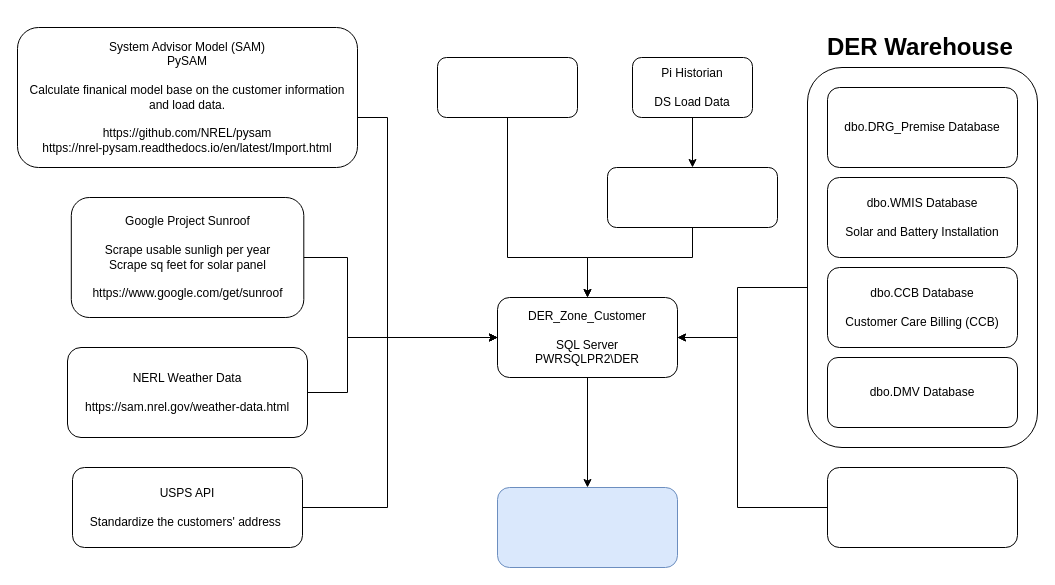
Some shapes in this 1055 by 585 pixel diagram are drawn without their labels. Each missing label, with the centre of its shape:
Census Information Census API: the point at 507,87
Dashboard UI: the point at 587,527
Machine Learning Model 4.8kV Load Forecasting: the point at 692,197
PlugShare Database EV Charger Location: the point at 922,507
